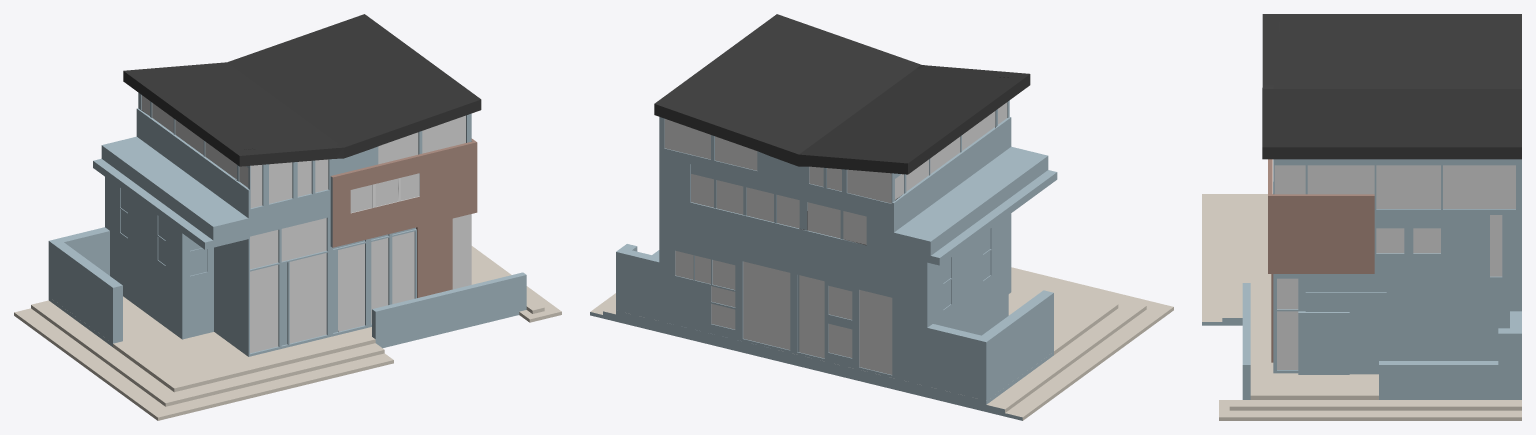
The model's file is asset.glb.
3 views of the same model, side by side, from view 1: azimuth 30°, elevation 25°; view 2: azimuth 150°, elevation 25°; view 3: azimuth 270°, elevation 25° (orthographic). The views are drawn at different scales.
Parts seen in each view (by area): view 1: Part A, PartB; view 2: Part A, PartB; view 3: Part A, PartB.
Part boxes in pixels (x1=…): Part A: x1=14, y1=14, x2=561, y2=420; PartB: x1=48, y1=62, x2=343, y2=356; Part A: x1=590, y1=14, x2=1173, y2=420; PartB: x1=799, y1=65, x2=1057, y2=400; Part A: x1=1202, y1=89, x2=1521, y2=420; PartB: x1=1262, y1=14, x2=1521, y2=88.
Bounding box in the file's own units: 8.01 × 4.06 × 4.85.
